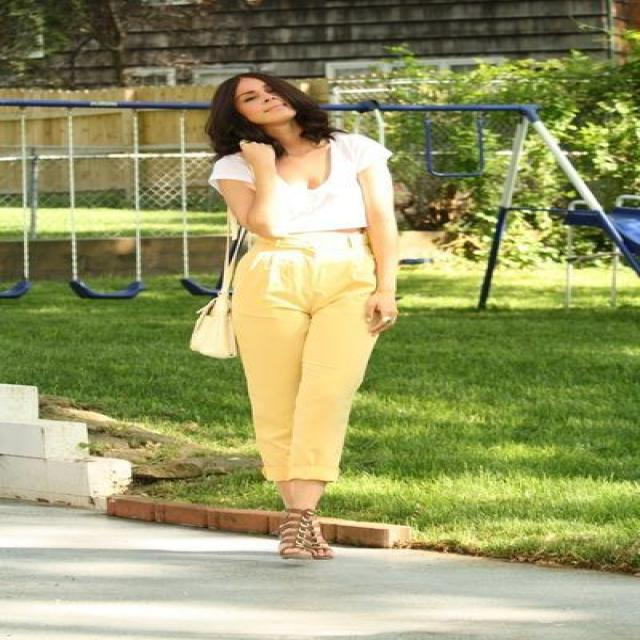bag: (190, 294, 262, 358)
pants: (218, 243, 376, 494)
shirt: (211, 115, 392, 267)
shoe: (261, 506, 331, 559)
